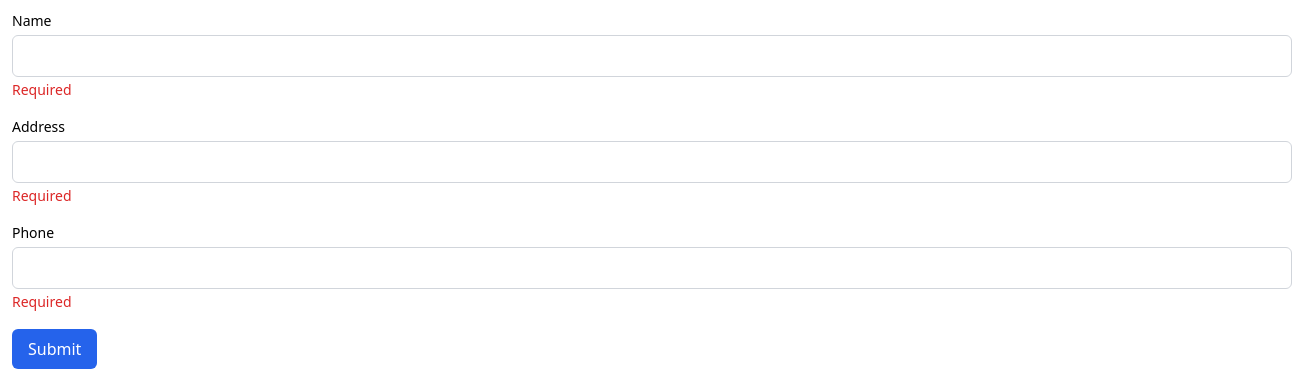
CheckoutForm › shows Unable to place order on network failure
The width and height of the screenshot is (1304, 386).
Type "John Doe" into the field labelled "Name".
click(652, 56); type("John Doe")  # box [12, 35, 1292, 77]
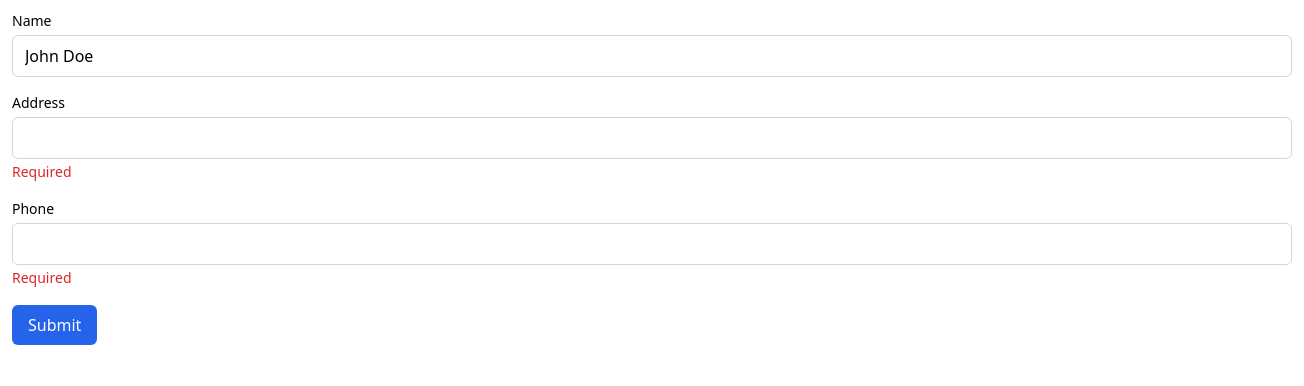
Type "123 Main St" into the field labelled "Address".
click(652, 138); type("123 Main St")  # box [12, 117, 1292, 159]
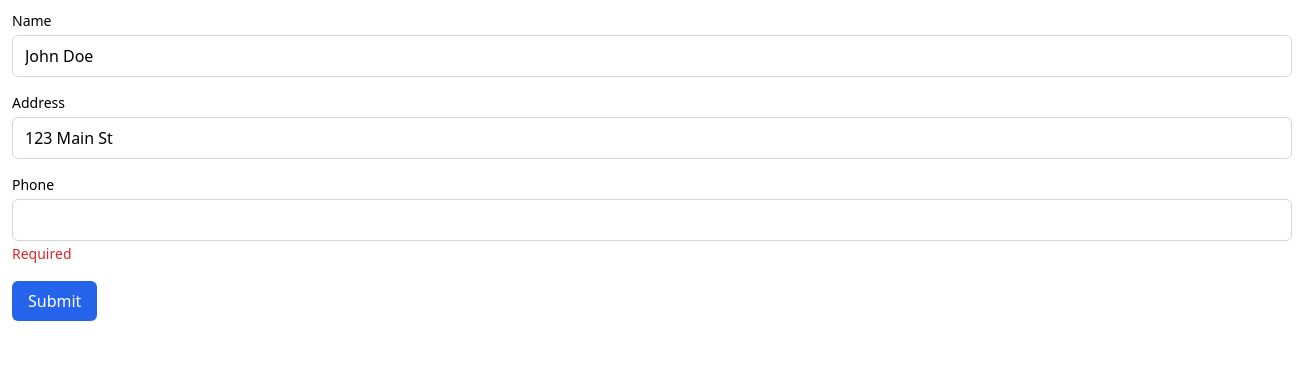
Type "555-0123" into the field labelled "Phone".
click(652, 220); type("555-0123")  # box [12, 199, 1292, 241]
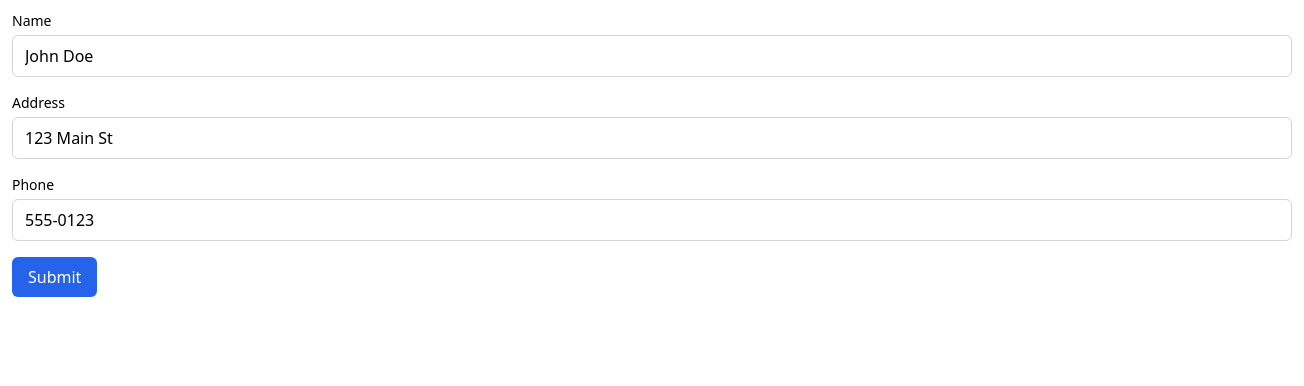
Click the button "Submit".
click(55, 277)  # box [12, 257, 97, 297]
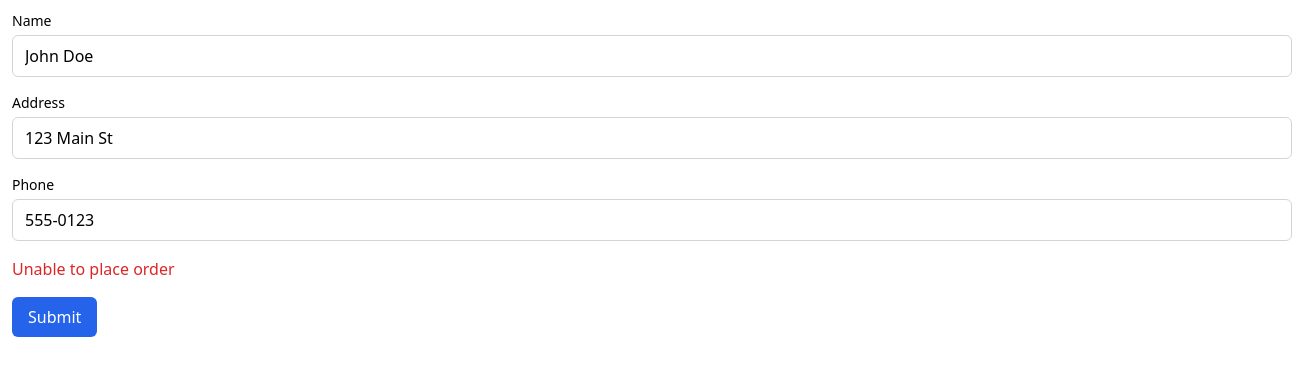
Now the text "Unable to place order" is shown, box [12, 258, 175, 280]
